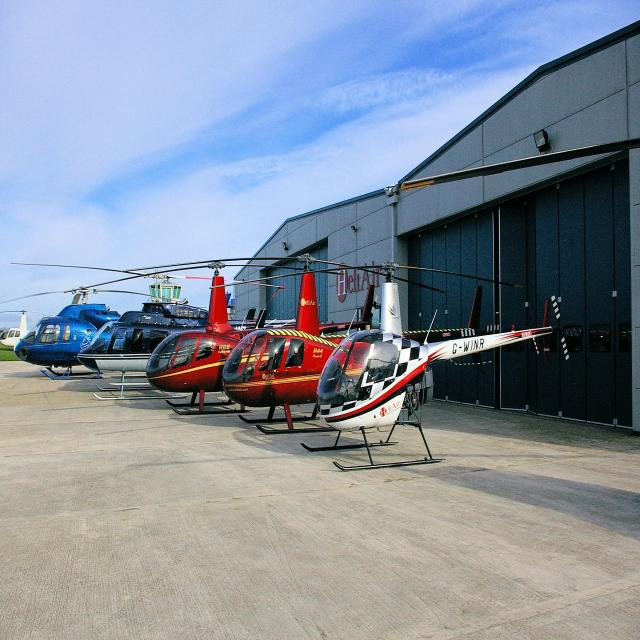helicopter: (306, 248, 591, 489), (212, 255, 394, 447), (137, 251, 279, 428), (1, 250, 139, 416), (73, 254, 198, 420), (1, 289, 40, 363)
